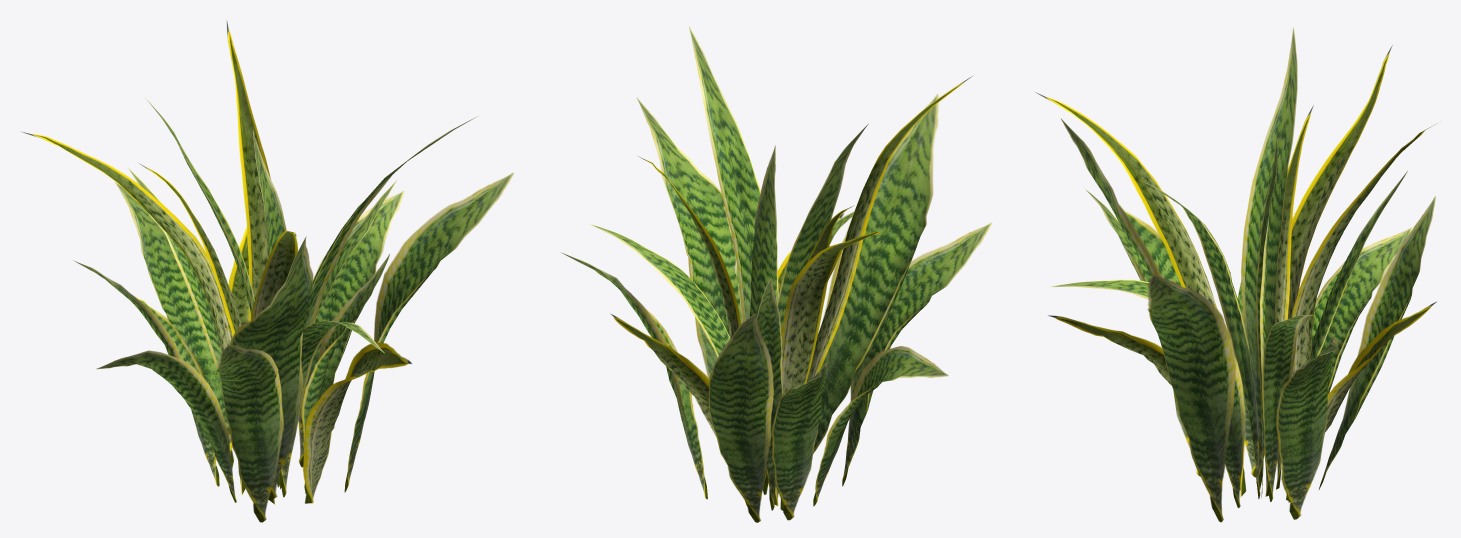
File: snake_plant.glb
The picture shows the model from 3 angles, left to right: view 1: azimuth 30°, elevation 25°; view 2: azimuth 150°, elevation 25°; view 3: azimuth 270°, elevation 25°; orthographic projection.
Parts seen in each view (by area): view 1: Fronds_0; view 2: Fronds_0; view 3: Fronds_0.
Boxes of the visible parts, <box> form: Fronds_0: <box>21,20,513,522</box>; Fronds_0: <box>561,26,992,522</box>; Fronds_0: <box>1035,27,1437,522</box>.
Bounding box in the file's own units: 1.62 × 1.71 × 1.51.
Materials: 1 (1 with a texture image).
